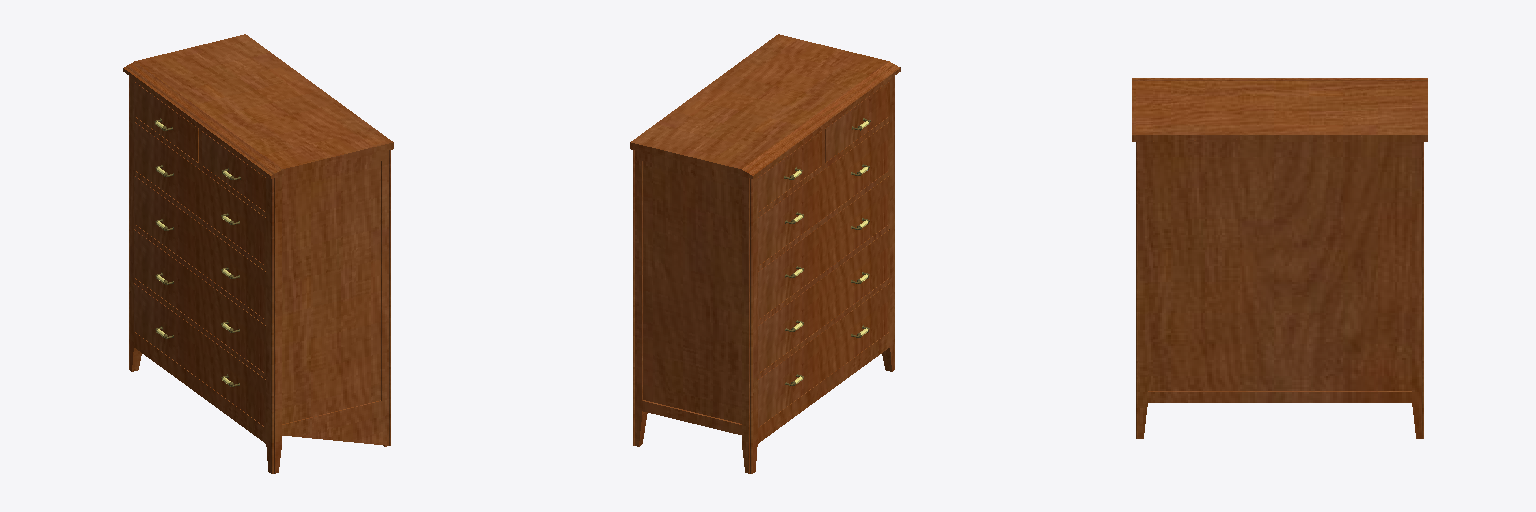
3 renders of one model, left to right at view 1: azimuth 30°, elevation 25°; view 2: azimuth 150°, elevation 25°; view 3: azimuth 270°, elevation 25°, orthographic.
Parts seen in each view (by area): view 1: Mesh27 Component_1_1 Model, Mesh15 Group3 Component_1_1 Model, Mesh20 Group4 Component_1_1 Model, Mesh10 Group2 Component_1_1 Model, Mesh5 Group1 Component_1_1 Model, Mesh26 Group6 Component_1_1 Model, Mesh23 Group5 Component_1_1 Model; view 2: Mesh27 Component_1_1 Model, Mesh20 Group4 Component_1_1 Model, Mesh15 Group3 Component_1_1 Model, Mesh5 Group1 Component_1_1 Model, Mesh10 Group2 Component_1_1 Model, Mesh23 Group5 Component_1_1 Model, Mesh26 Group6 Component_1_1 Model; view 3: Mesh27 Component_1_1 Model.
Boxes of the visible parts, x1,y1,x2,y2 form: Mesh27 Component_1_1 Model: [123, 34, 393, 473]; Mesh15 Group3 Component_1_1 Model: [134, 176, 265, 319]; Mesh20 Group4 Component_1_1 Model: [134, 122, 265, 265]; Mesh10 Group2 Component_1_1 Model: [134, 283, 265, 427]; Mesh5 Group1 Component_1_1 Model: [134, 230, 265, 373]; Mesh26 Group6 Component_1_1 Model: [134, 82, 198, 162]; Mesh23 Group5 Component_1_1 Model: [202, 131, 265, 211]; Mesh27 Component_1_1 Model: [630, 34, 900, 473]; Mesh20 Group4 Component_1_1 Model: [758, 122, 889, 265]; Mesh15 Group3 Component_1_1 Model: [758, 176, 889, 319]; Mesh5 Group1 Component_1_1 Model: [758, 230, 889, 373]; Mesh10 Group2 Component_1_1 Model: [758, 283, 889, 427]; Mesh23 Group5 Component_1_1 Model: [825, 82, 889, 162]; Mesh26 Group6 Component_1_1 Model: [758, 131, 821, 211]; Mesh27 Component_1_1 Model: [1132, 78, 1427, 438].
Size of the model in its own units: 0.4872 by 1.11 by 0.9779.
7 materials, 2 textured.